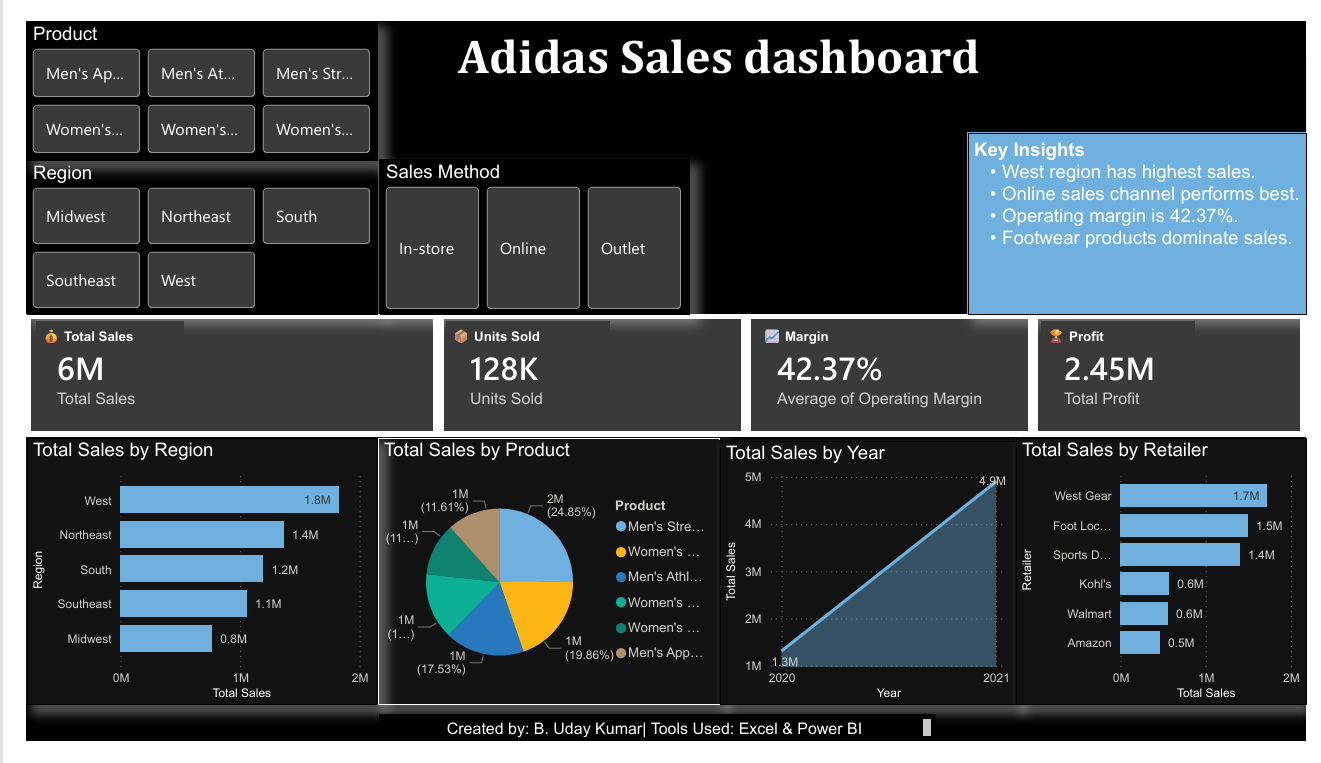

The dashboard page shown, as its layout file describes it:
{"tool":"powerbi","page":{"name":"Adidas Sales Dashboard","canvas":[1280,720],"ordinal":0},"visuals":[{"type":"cardVisual","fields":{"Data":["Sum(Adidas Sales Sample.Total Sales)"]},"box":[0,292.9,412.9,122.9],"z":0},{"type":"cardVisual","fields":{"Data":["Sum(Adidas Sales Sample.Units Sold)"]},"box":[412.9,292.9,307.1,122.9],"z":1000},{"type":"pieChart","fields":{"Y":["Sum(Adidas Sales Sample.Total Sales)"],"Category":["Adidas Sales Sample.Product"]},"box":[351.4,415.7,341.4,267.1],"z":2000},{"type":"cardVisual","fields":{"Data":["Avg(Adidas Sales Sample.Operating Margin)"]},"box":[720,292.9,287.1,122.9],"z":3000},{"type":"clusteredBarChart","fields":{"Category":["Adidas Sales Sample.Region"],"Y":["Sum(Adidas Sales Sample.Total Sales)"]},"box":[0,415.7,351.4,267.1],"z":4000},{"type":"lineChart","fields":{"Category":["Adidas Sales Sample.Invoice Date.Variation.Date Hierarchy.Year","Adidas Sales Sample.Invoice Date.Variation.Date Hierarchy.Quarter","Adidas Sales Sample.Invoice Date.Variation.Date Hierarchy.Month","Adidas Sales Sample.Invoice Date.Variation.Date Hierarchy.Day"],"Y":["Sum(Adidas Sales Sample.Total Sales)"]},"box":[692.9,418.6,295.7,264.3],"z":5000},{"type":"barChart","fields":{"Category":["Adidas Sales Sample.Retailer"],"Y":["Sum(Adidas Sales Sample.Total Sales)"]},"box":[988.6,415.7,291.4,267.1],"z":6000},{"type":"advancedSlicerVisual","fields":{"Values":["Adidas Sales Sample.Region"]},"box":[0,138.6,351.4,154.3],"z":7000},{"type":"advancedSlicerVisual","fields":{"Values":["Adidas Sales Sample.Product"]},"box":[0,0,351.4,138.6],"z":8000},{"type":"advancedSlicerVisual","fields":{"Values":["Adidas Sales Sample.Sales Method"]},"box":[352.8,138.3,309.9,155],"z":9000},{"type":"textbox","box":[404.9,0,574.5,111.5],"z":10000},{"type":"cardVisual","fields":{"Data":["Sum(Adidas Sales Sample.Operating Profit)"]},"box":[1007.1,292.9,272.9,122.9],"z":11000},{"type":"textbox","box":[941.4,111.4,338.6,181.4],"z":12000},{"type":"textbox","box":[10,300,148,29],"z":13000},{"type":"textbox","box":[420,300,164,29],"z":14000},{"type":"textbox","box":[731,300,133,29],"z":15000},{"type":"textbox","box":[1015,300,154,29],"z":16000},{"type":"textbox","box":[352.9,692.9,557.1,27.1],"z":17000}]}

Visuals, with their boxes in screenshot pixels (x1, y1, x2, y2), scaled from the page's 1280x720 canvas onto the 1321x763 screenshot:
cardVisual - Sum(Adidas Sales Sample.Total Sales): <region>0, 310, 426, 441</region>
cardVisual - Sum(Adidas Sales Sample.Units Sold): <region>426, 310, 743, 441</region>
pieChart - Sum(Adidas Sales Sample.Total Sales) x Adidas Sales Sample.Product: <region>363, 441, 715, 724</region>
cardVisual - Avg(Adidas Sales Sample.Operating Margin): <region>743, 310, 1039, 441</region>
clusteredBarChart - Adidas Sales Sample.Region x Sum(Adidas Sales Sample.Total Sales): <region>0, 441, 363, 724</region>
lineChart - Adidas Sales Sample.Invoice Date.Variation.Date Hierarchy.Year x Adidas Sales Sample.Invoice Date.Variation.Date Hierarchy.Quarter: <region>715, 444, 1020, 724</region>
barChart - Adidas Sales Sample.Retailer x Sum(Adidas Sales Sample.Total Sales): <region>1020, 441, 1320, 724</region>
advancedSlicerVisual - Adidas Sales Sample.Region: <region>0, 147, 363, 310</region>
advancedSlicerVisual - Adidas Sales Sample.Product: <region>0, 0, 363, 147</region>
advancedSlicerVisual - Adidas Sales Sample.Sales Method: <region>364, 147, 684, 311</region>
textbox: <region>418, 0, 1011, 118</region>
cardVisual - Sum(Adidas Sales Sample.Operating Profit): <region>1039, 310, 1320, 441</region>
textbox: <region>972, 118, 1320, 310</region>
textbox: <region>10, 318, 163, 349</region>
textbox: <region>433, 318, 603, 349</region>
textbox: <region>754, 318, 892, 349</region>
textbox: <region>1048, 318, 1206, 349</region>
textbox: <region>364, 734, 939, 762</region>
